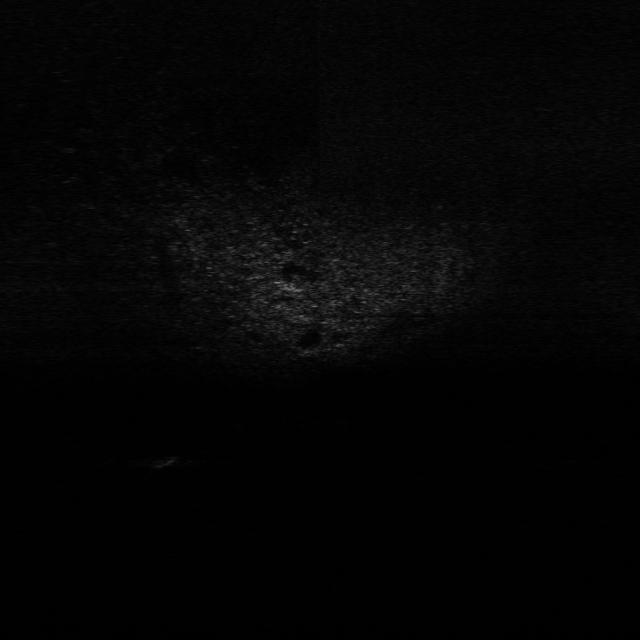cylinder: (149, 450, 187, 470)
